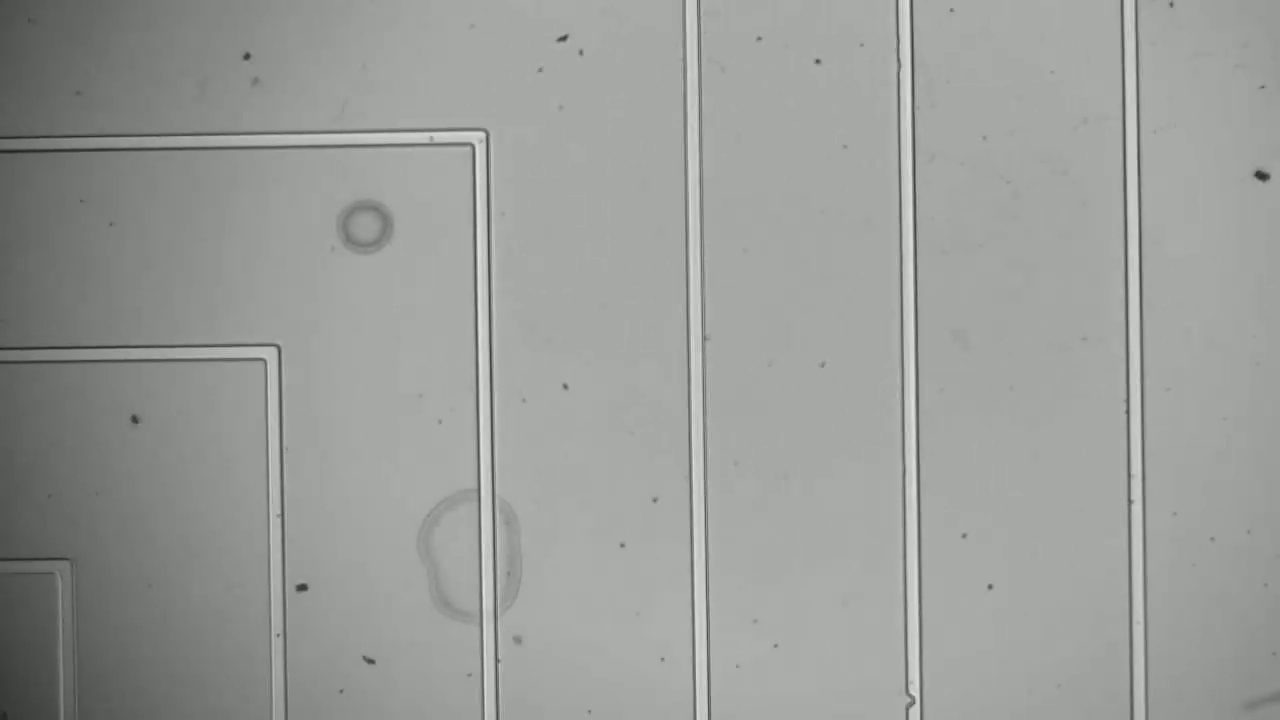edge_bite: (898, 686, 929, 714)
